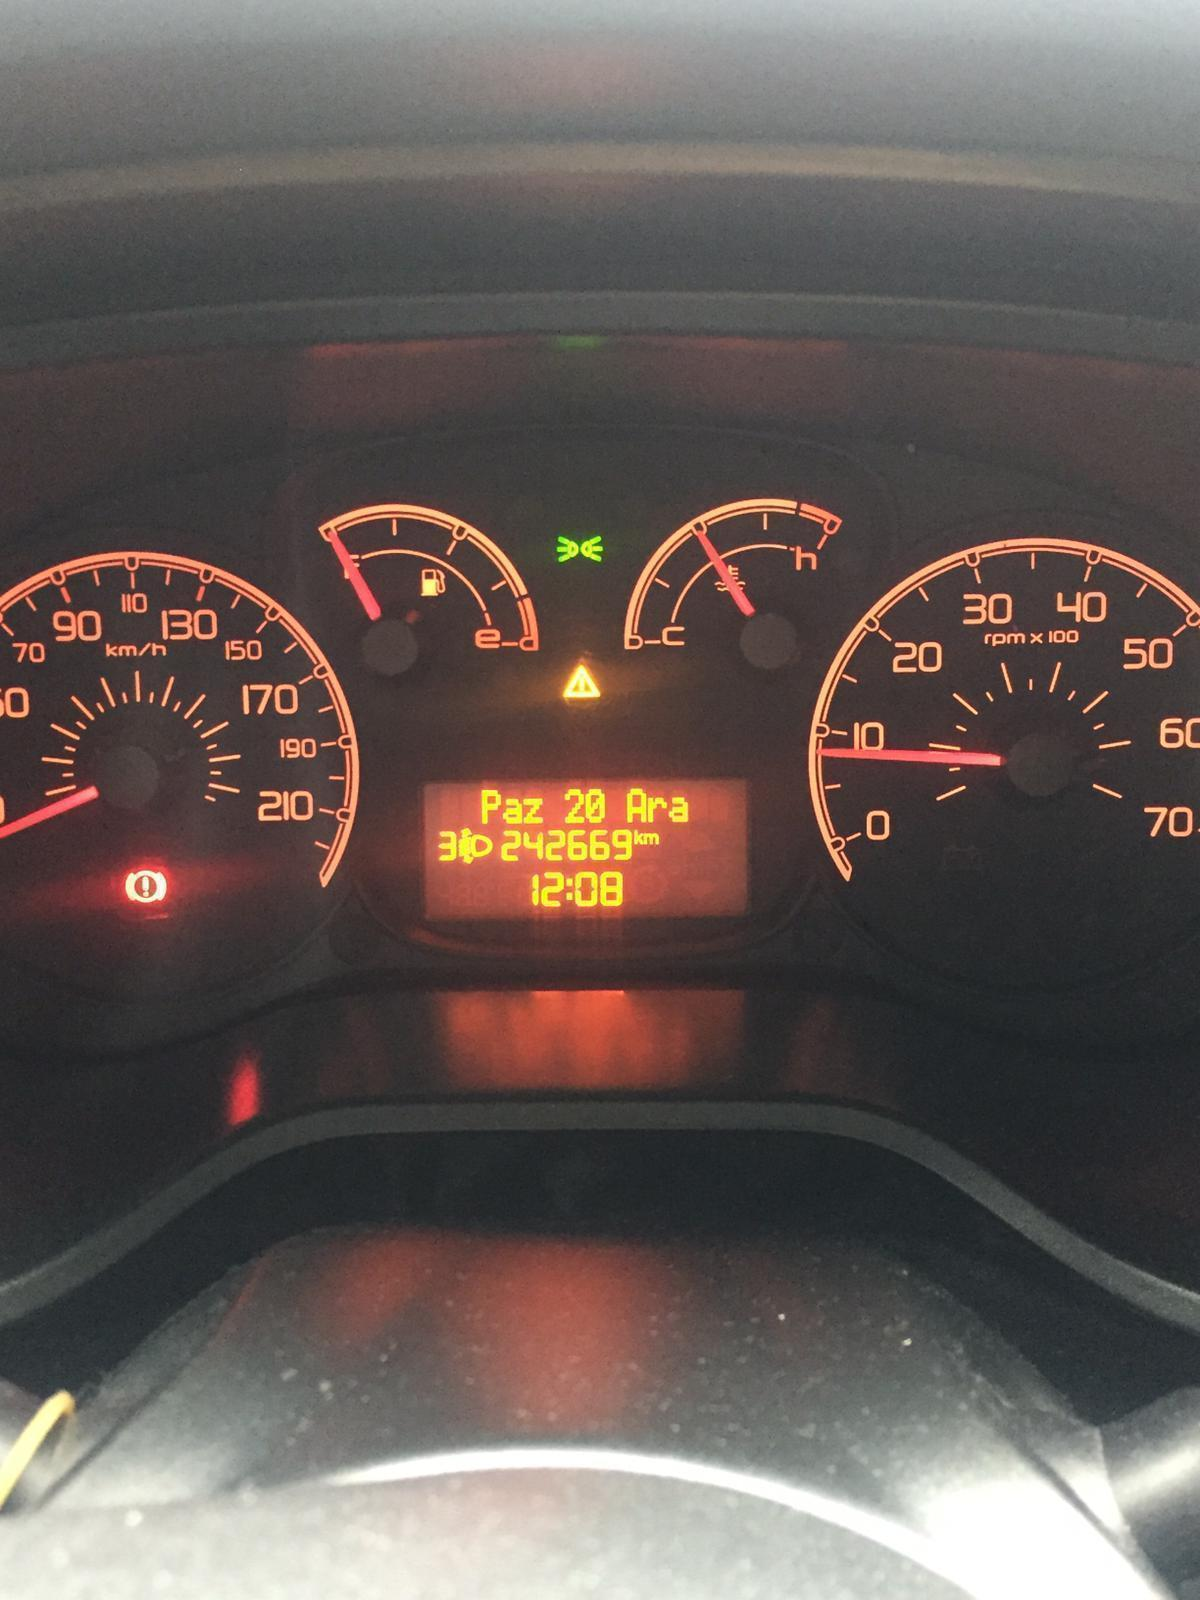0: (574, 869, 597, 910), (585, 786, 606, 824)
1: (531, 871, 539, 908)
2: (563, 787, 586, 826), (542, 869, 563, 910), (545, 828, 566, 862), (500, 828, 521, 862)
3: (437, 828, 458, 862)
4: (523, 830, 543, 860)
6: (590, 826, 610, 860), (568, 828, 587, 862)
8: (597, 868, 625, 908)
9: (613, 828, 632, 860)
X: (479, 787, 500, 824), (626, 787, 647, 824), (647, 795, 668, 823), (523, 796, 545, 824), (503, 795, 522, 825), (669, 796, 689, 823), (643, 831, 661, 847), (633, 828, 643, 847), (566, 876, 572, 905)
odometer: (418, 777, 758, 921)
